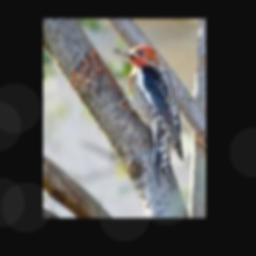Woodpecker: (113, 45, 184, 188)
